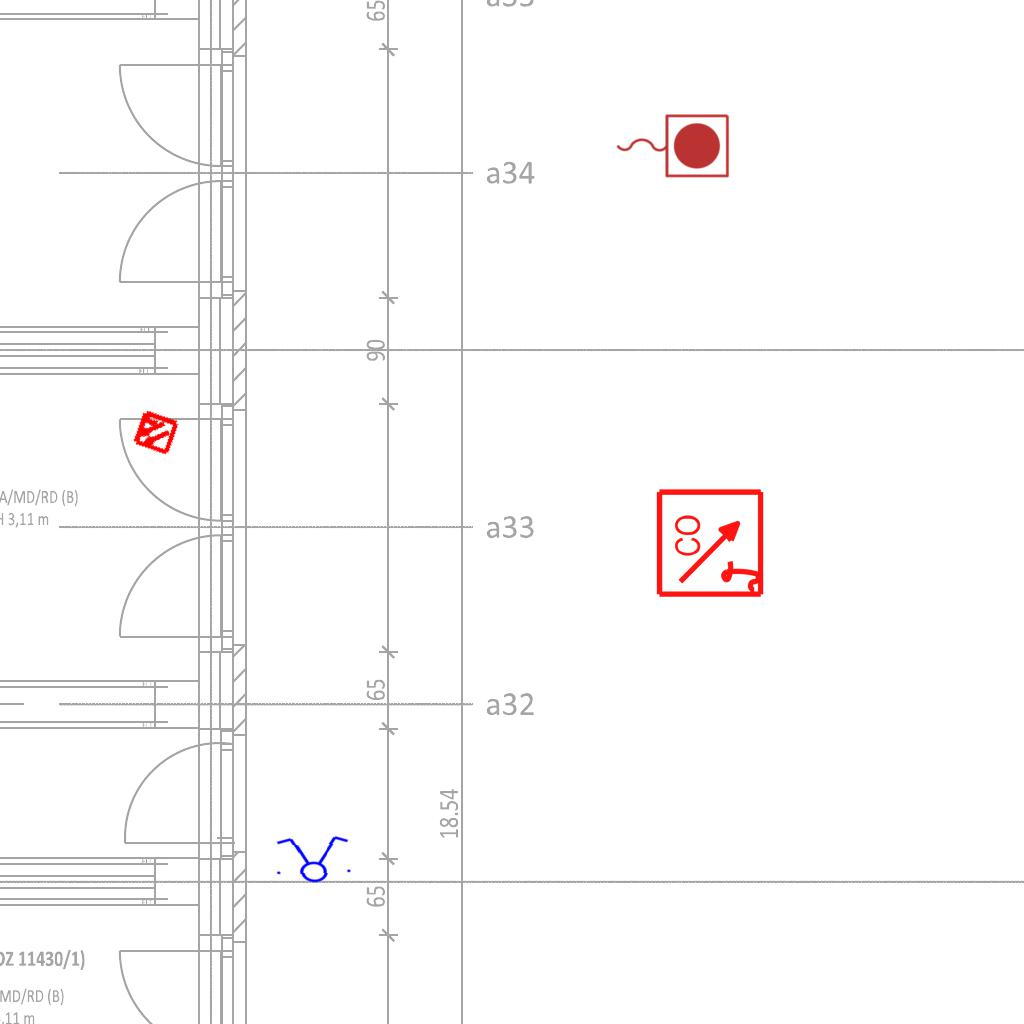OT_Multisensormelder_(Kombination_RMO_WMD): (119, 396, 191, 468)
ROA_Rauchmelder_optisch_mit_Signalgeber_(Sockelsirene): (655, 486, 768, 599)
Serienschalter: (270, 833, 356, 885)
Zugtaster: (611, 109, 733, 181)
